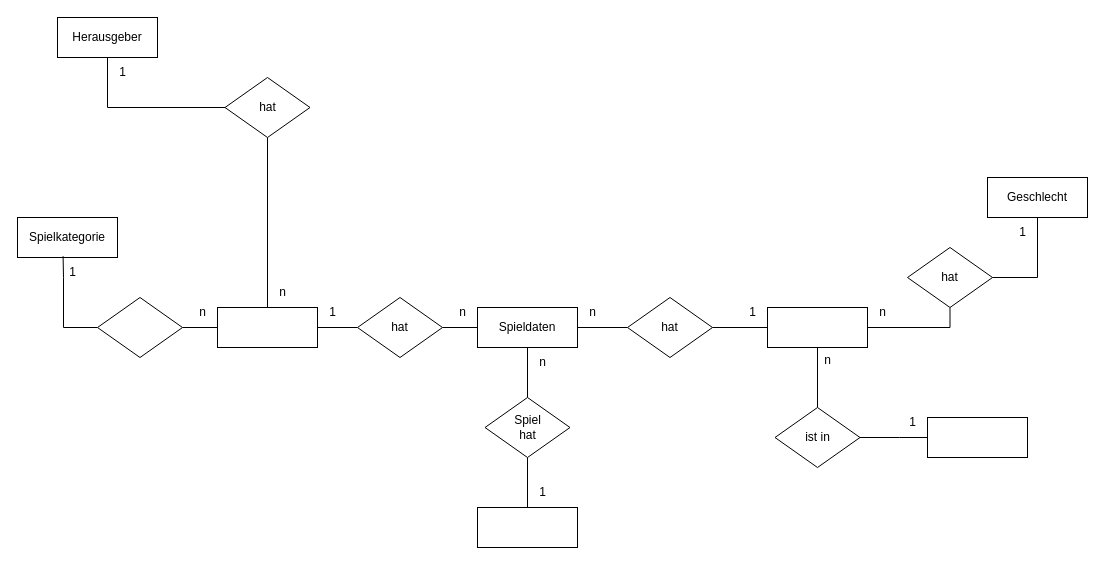
Image size: 1105x565. Some labels were removed from this diagram. The centre of each missing label's shape, as x and y in pixels:
Benutzer: [817,327]
besitzt: [139,327]
Land: [977,437]
Plattorm: [527,527]
Spiel: [267,327]
